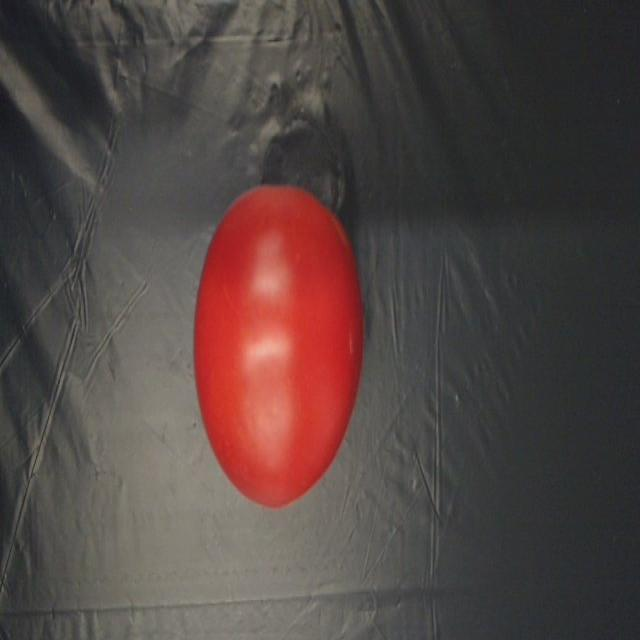kirmizi: (167, 133, 383, 524)
